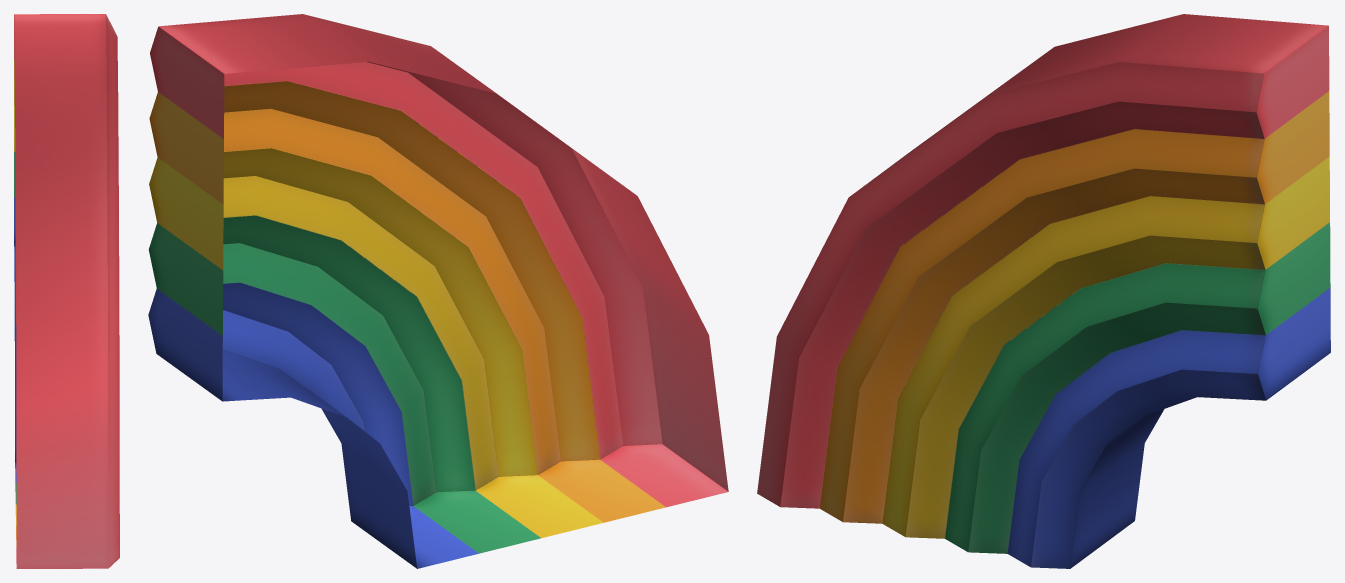
Rendered from Emoji_rainbow.glb.
The picture shows the model from 3 angles, left to right: view 1: azimuth 30°, elevation 25°; view 2: azimuth 150°, elevation 25°; view 3: azimuth 270°, elevation 25°; orthographic projection. The views are drawn at different scales.
Visible parts, largest first — view 1: Emoji; view 2: Emoji; view 3: Emoji.
Boxes of the visible parts, x1,y1,x2,y2 form: Emoji: (14, 14, 119, 568); Emoji: (148, 14, 728, 568); Emoji: (757, 14, 1330, 568).
Bounding box in the file's own units: 0.4132 × 0.5918 × 0.5677.
1 material, 1 textured.
